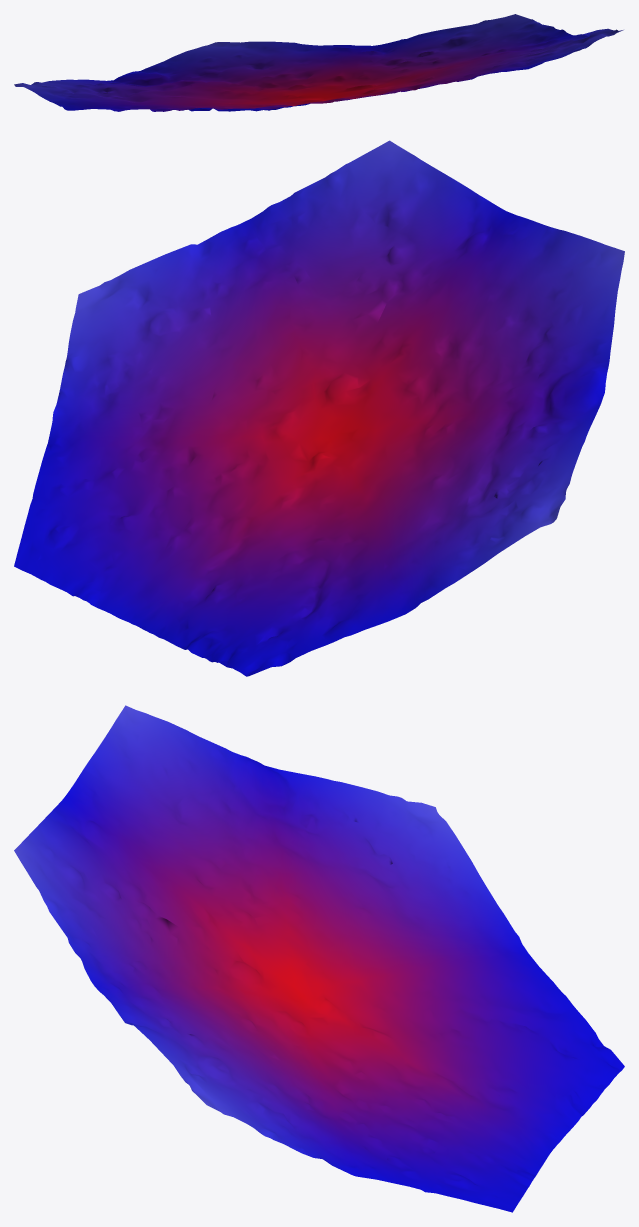
File: Hex_12.fbx
The picture shows the model from 3 angles, top to bottom: view 1: azimuth 30°, elevation 25°; view 2: azimuth 150°, elevation 25°; view 3: azimuth 270°, elevation 25°; orthographic projection. The views are drawn at different scales.
Parts seen in each view (by area): view 1: Hex_12; view 2: Hex_12; view 3: Hex_12.
Part boxes in pixels (x1,y1,x2,y2): Hex_12: (14,14,623,111); Hex_12: (14,140,624,676); Hex_12: (14,705,624,1212).
Size of the model in its own units: 501 by 241 by 434.
